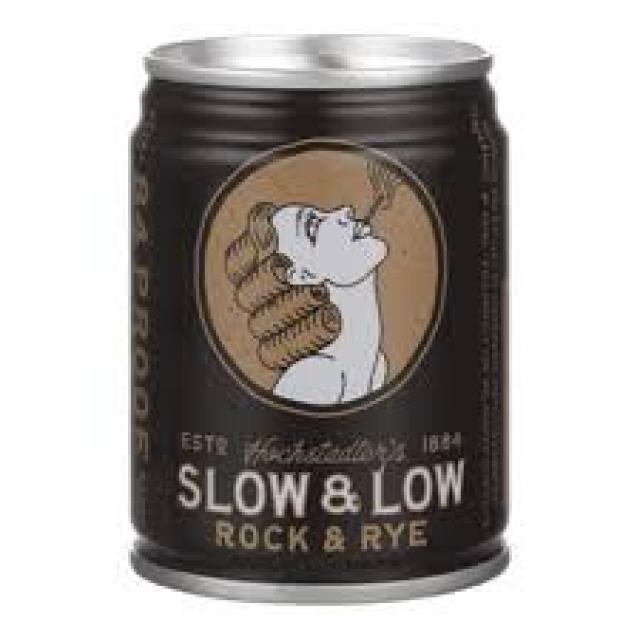Cans: (111, 20, 532, 609)
